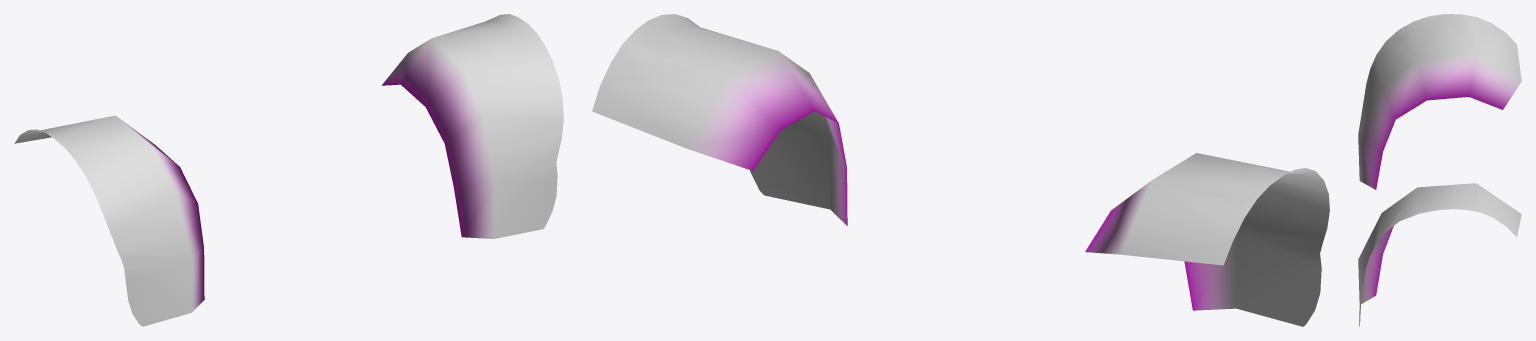
File: Car_Nissan_SkylineGTRVspecR34_1999_FendersChassisR_SetF_AltA.fbx
The picture shows the model from 3 angles, left to right: view 1: azimuth 30°, elevation 25°; view 2: azimuth 150°, elevation 25°; view 3: azimuth 270°, elevation 25°; orthographic projection. The views are drawn at different scales.
Visible parts, largest first — view 1: FendersChassisR 6; view 2: FendersChassisR 6; view 3: FendersChassisR 6.
Part boxes in pixels (box(x1,y1,x2,y2)): FendersChassisR 6: box(14, 14, 563, 326); FendersChassisR 6: box(592, 14, 1329, 326); FendersChassisR 6: box(1358, 14, 1521, 326).
Bounding box in the file's own units: 1.88 × 0.6031 × 0.67.
